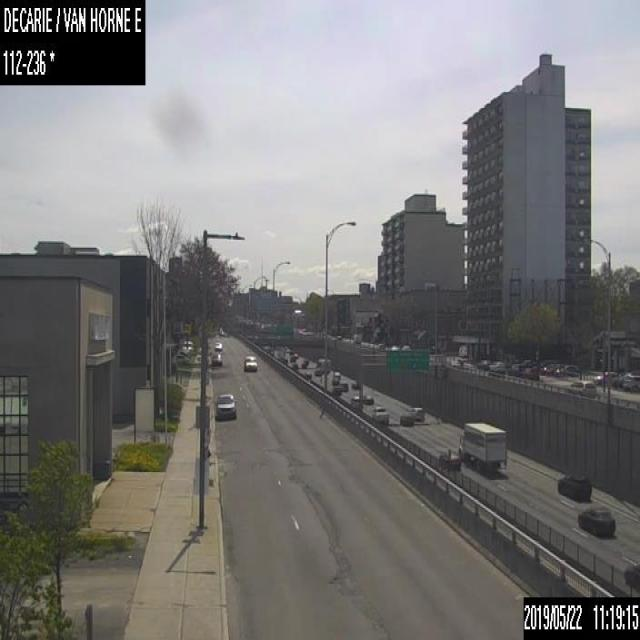vehicle: (457, 421, 506, 472), (576, 503, 616, 536), (557, 469, 592, 502), (214, 392, 236, 419), (438, 447, 459, 470), (625, 561, 639, 591), (553, 362, 578, 376), (370, 405, 388, 422), (621, 374, 639, 390), (568, 380, 596, 389), (520, 366, 539, 379), (508, 362, 523, 376), (408, 406, 423, 420), (244, 355, 257, 371), (317, 357, 330, 372), (399, 412, 413, 425), (488, 360, 503, 371), (349, 396, 361, 409), (211, 352, 222, 366), (476, 359, 490, 368), (362, 393, 372, 403), (331, 371, 340, 382), (338, 381, 348, 390), (332, 385, 341, 394), (400, 343, 410, 350), (303, 371, 311, 379), (214, 341, 221, 350), (312, 368, 320, 375), (351, 381, 358, 388), (376, 342, 383, 348), (391, 344, 398, 350), (289, 353, 294, 361), (293, 352, 298, 357), (301, 361, 305, 367), (304, 358, 308, 363)
